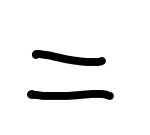eqv: (20, 45, 119, 103)
